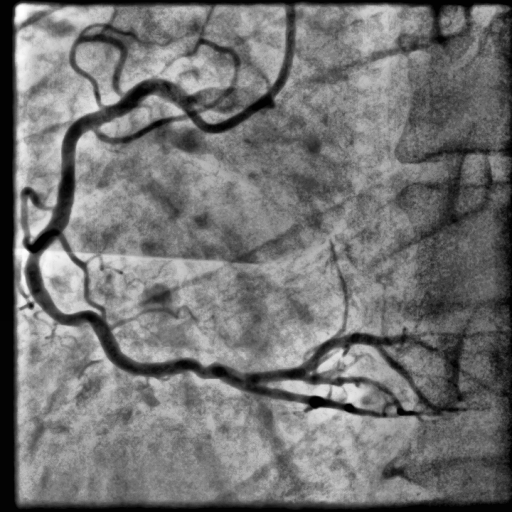pborca: (242, 332, 507, 397)
pda: (243, 384, 400, 418)
rca: (25, 78, 248, 390)
